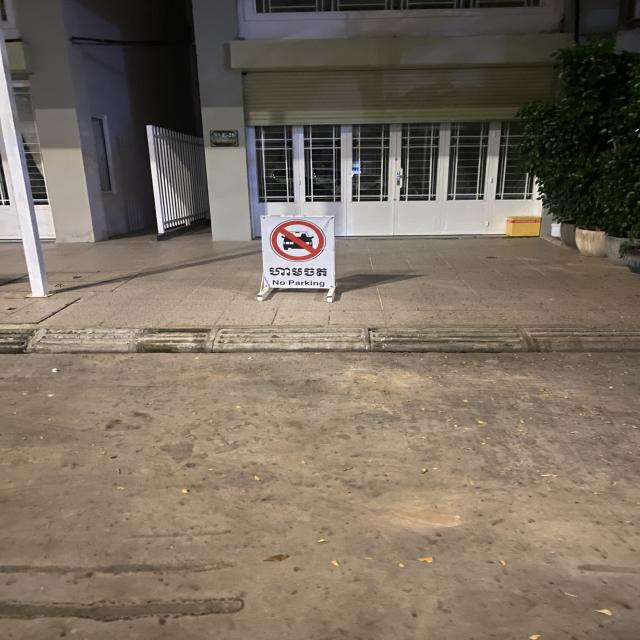Yolov11_80vkh: (268, 265, 331, 280)
